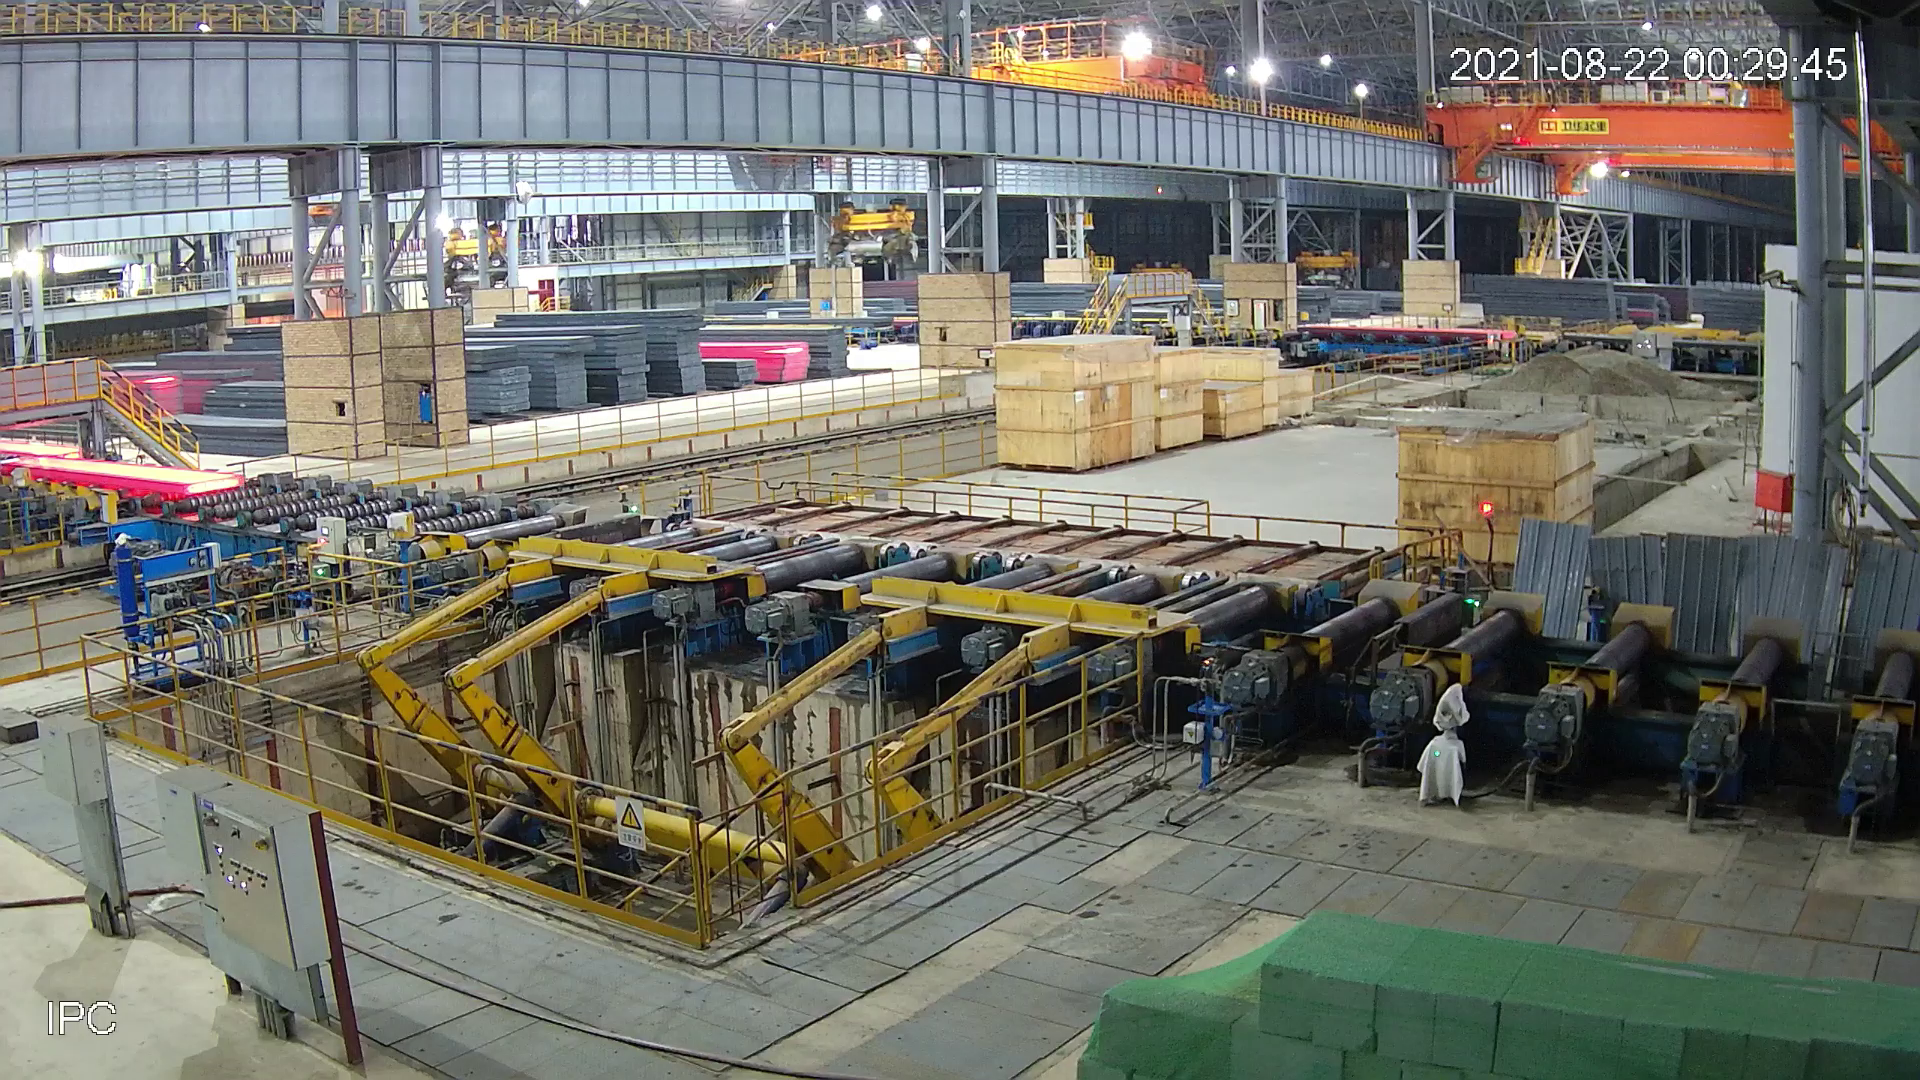crane: (1021, 152, 1425, 496)
slab: (807, 742, 1462, 831)
